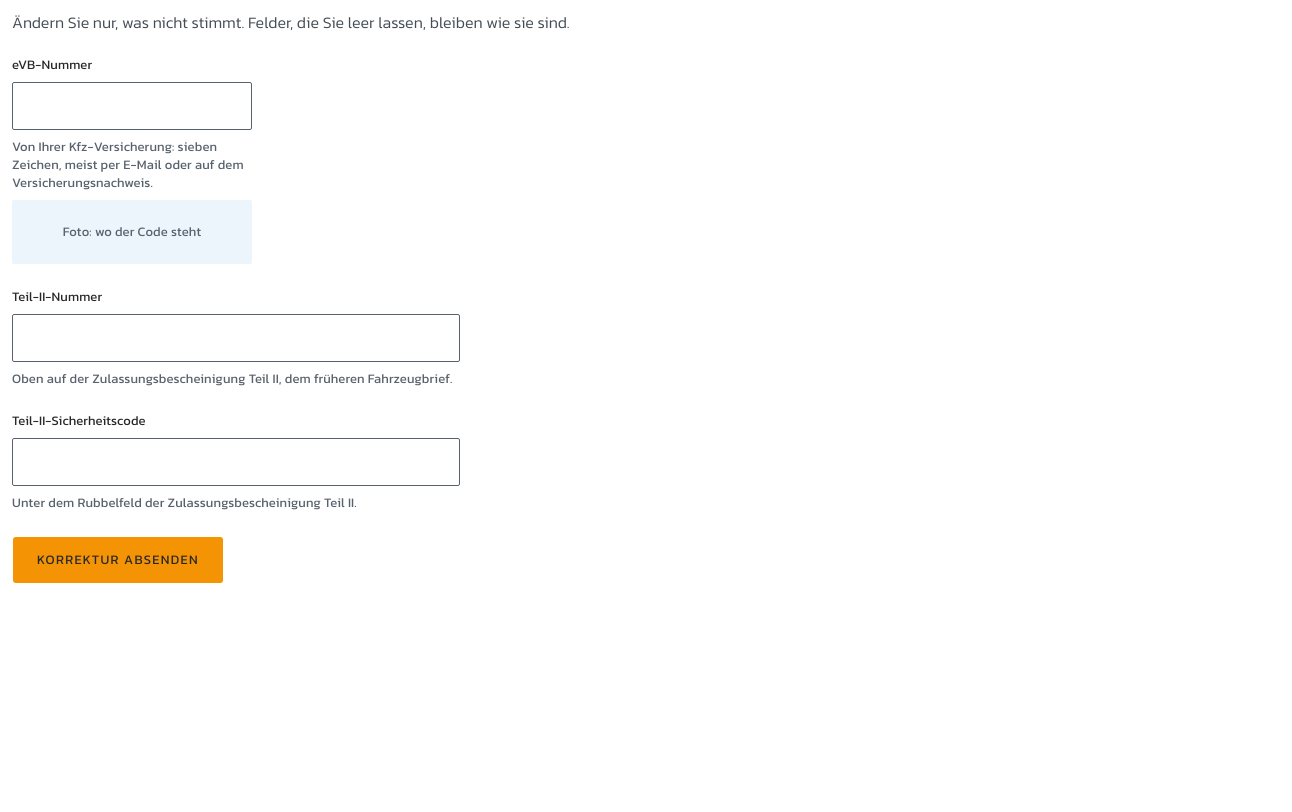
Test: CorrectNewRegistration › asks for at least one change instead of sending an empty correction
Click the button "Korrektur absenden": click(118, 560) [12,536,224,584]
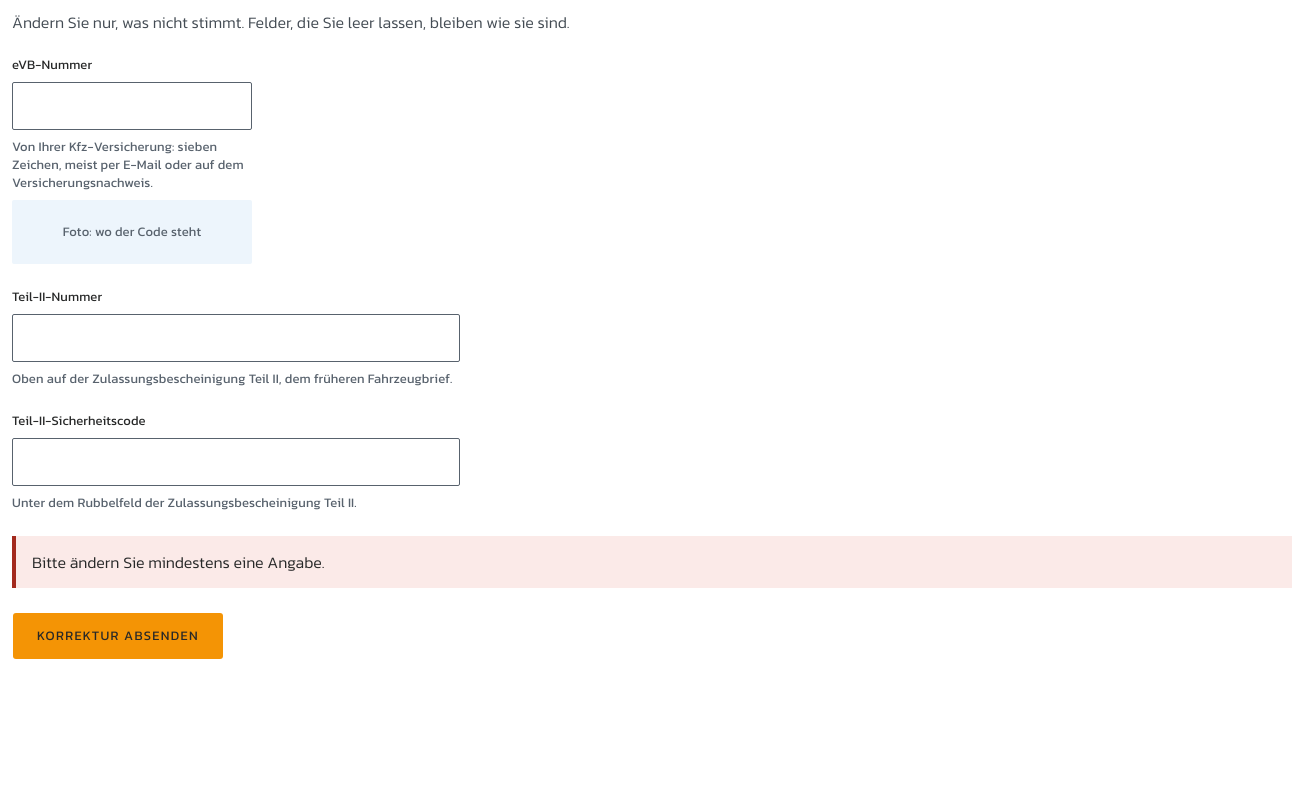
Result: the message shows "mindestens eine Angabe" at [32,550,325,574]
